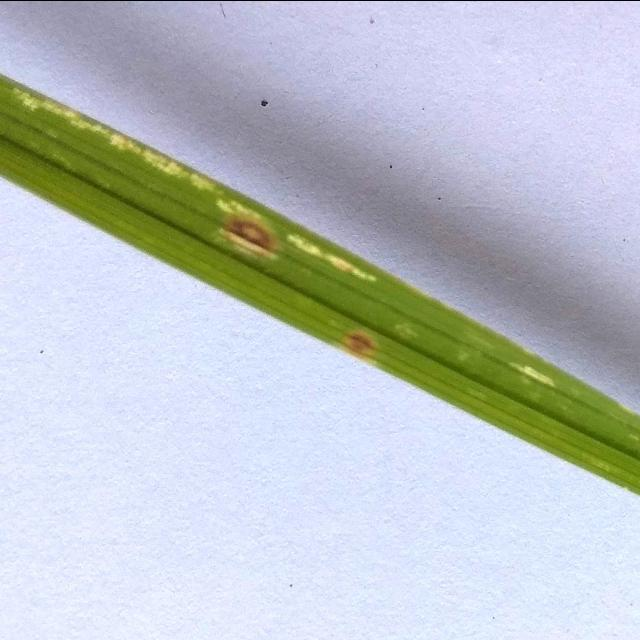Leaf blast: (0, 0, 637, 502)
